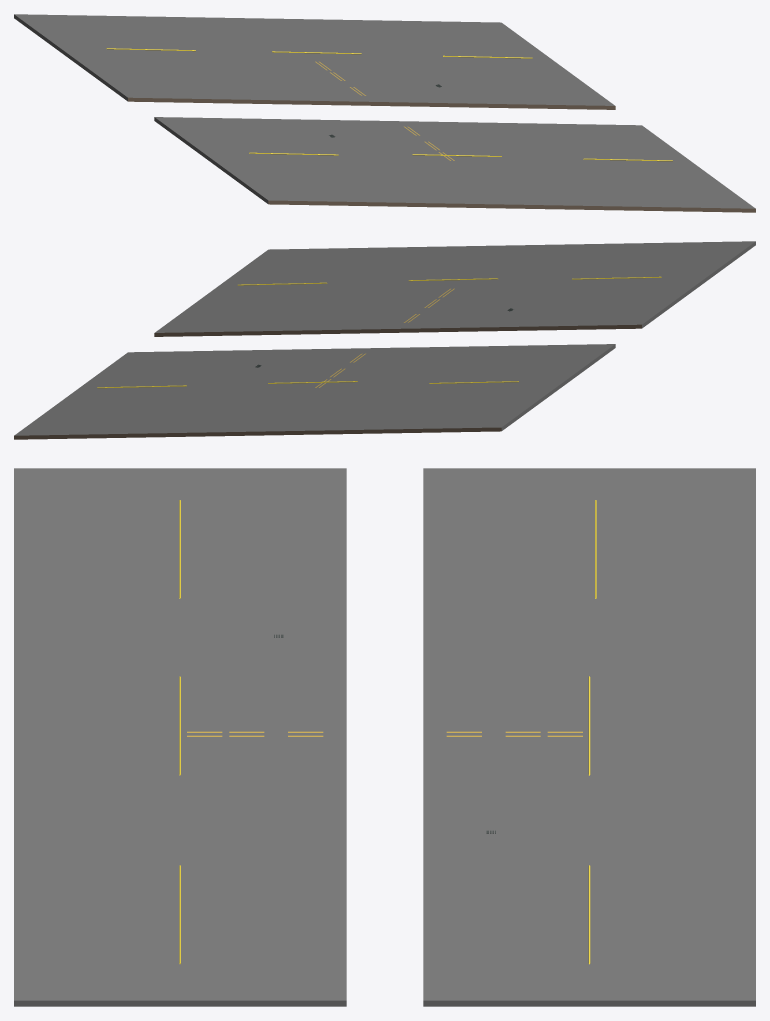
The picture shows the model from 3 angles, top to bottom: view 1: azimuth 30°, elevation 25°; view 2: azimuth 150°, elevation 25°; view 3: azimuth 270°, elevation 25°; orthographic projection. The views are drawn at different scales.
Parts seen in each view (by area): view 1: RD97 | archived geometry, RD97 | line, light and sprite surfaces; view 2: RD97 | archived geometry, RD97 | line, light and sprite surfaces; view 3: RD97 | archived geometry, RD97 | line, light and sprite surfaces, Fitted street and landscape details.
Boxes of the visible parts, x1,y1,x2,y2 form: RD97 | archived geometry: (14,14,755,212); RD97 | line, light and sprite surfaces: (106,48,672,161); RD97 | archived geometry: (14,241,755,439); RD97 | line, light and sprite surfaces: (97,276,661,388); RD97 | archived geometry: (14,468,755,1006); RD97 | line, light and sprite surfaces: (179,500,596,964); Fitted street and landscape details: (187,634,582,833).
Bounding box in the file's own units: 32.09 × 8.25 × 29.
